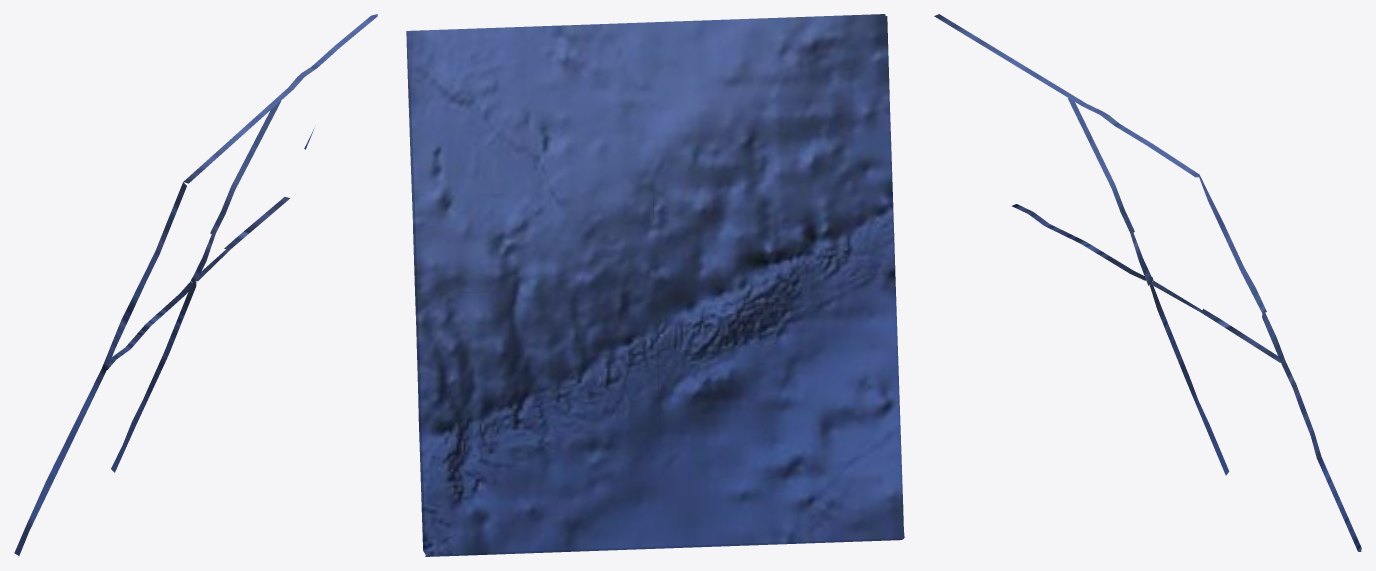
3 views of the same model, side by side, from view 1: azimuth 30°, elevation 25°; view 2: azimuth 150°, elevation 25°; view 3: azimuth 270°, elevation 25° (orthographic). The views are drawn at different scales.
Size of the model in its own units: 77080 by 73173 by 66271.
1 material, 1 textured.
